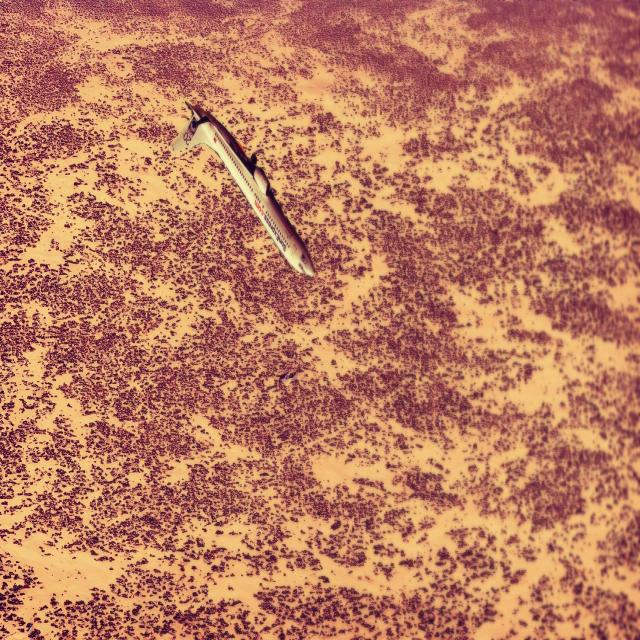airplane: (170, 98, 315, 278)
